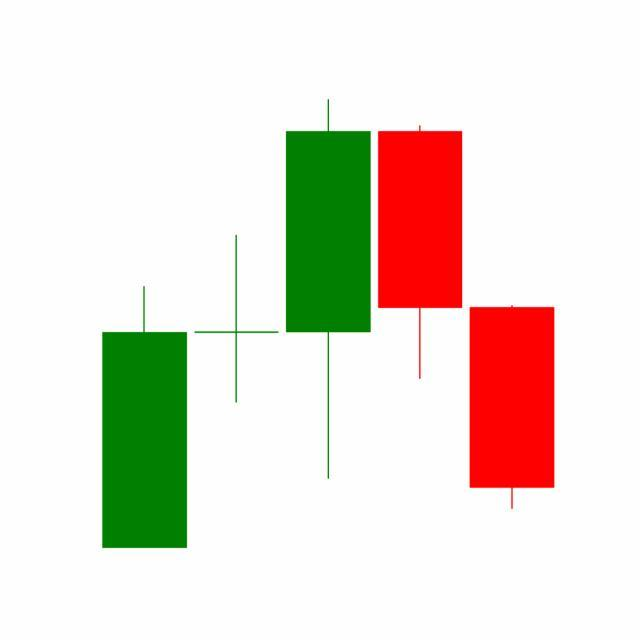Marubozu: (466, 304, 559, 512)
